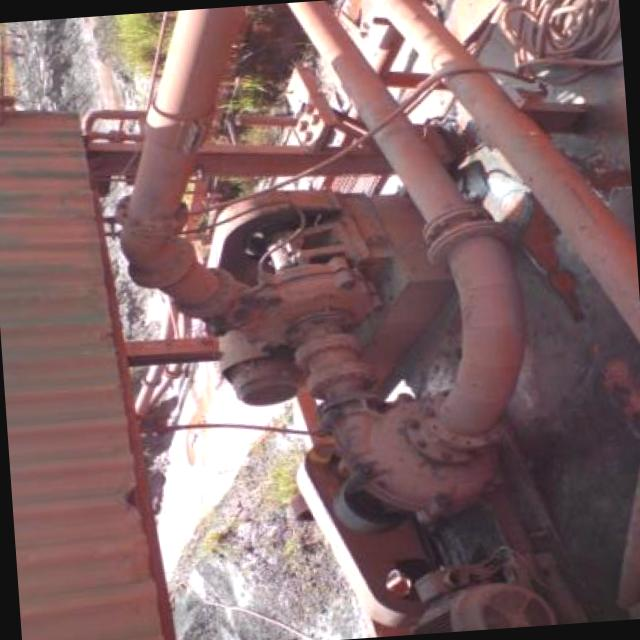gas: (288, 0, 517, 457), (369, 0, 640, 345), (124, 5, 253, 329)
